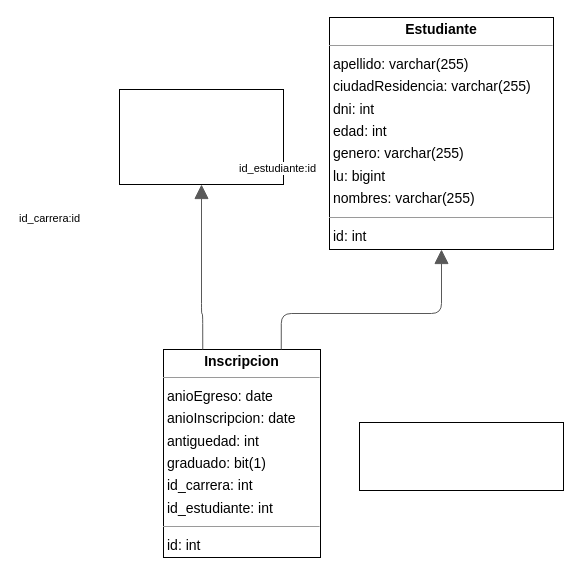
The diagram is 581 pixels wide and 575 high, and some of its shapes have lost their labels. Here are the shapes that lost their labels. From the top down, the box of each, then its label:
(118, 88, 284, 184): Carrera nombre: varchar(255) id: int
(358, 422, 564, 490): hibernate_sequence next_val: bigint
